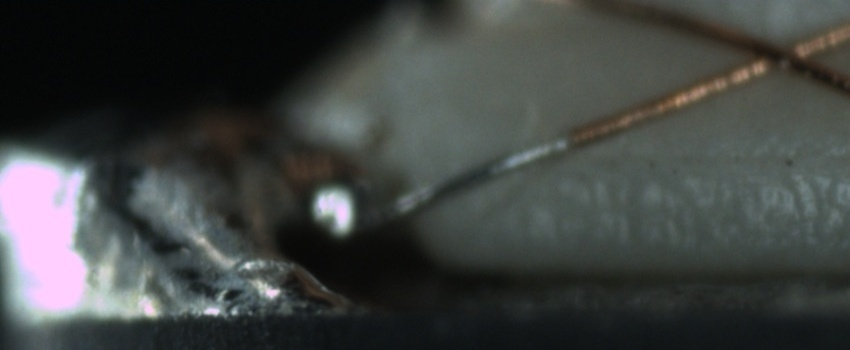CL: (723, 22, 831, 89)
DL: (563, 127, 848, 192)
TS: (349, 137, 568, 238)
